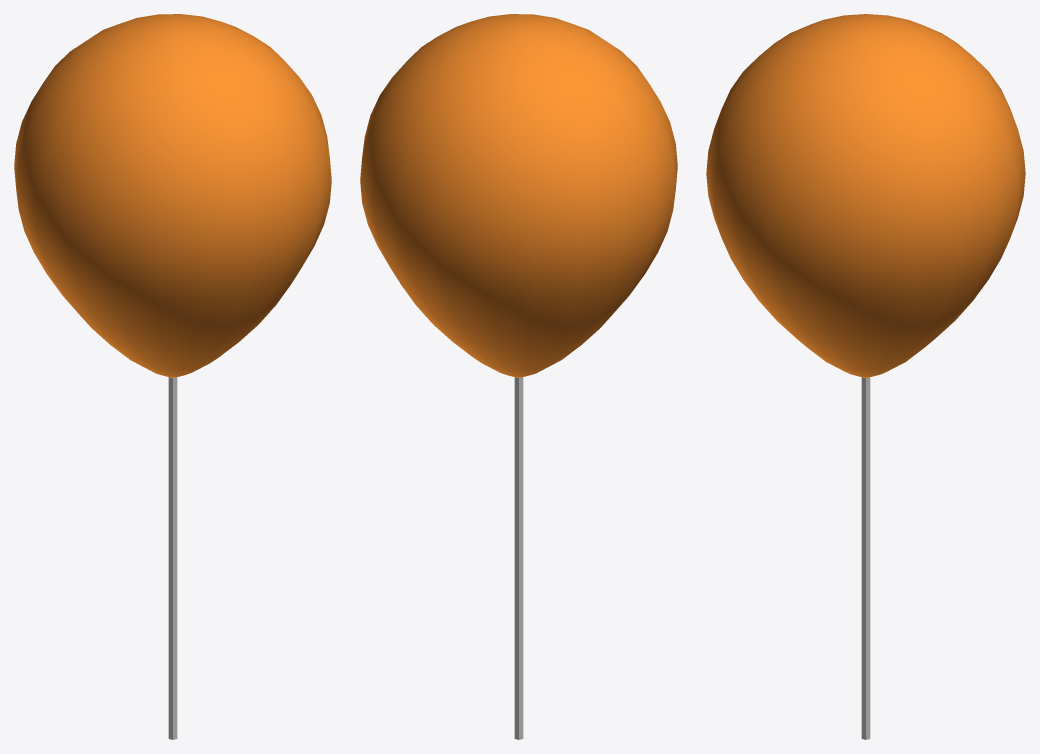
The model's file is BALLOON 4.fbx.
The picture shows the model from 3 angles, left to right: view 1: azimuth 30°, elevation 25°; view 2: azimuth 150°, elevation 25°; view 3: azimuth 270°, elevation 25°; orthographic projection.
Parts seen in each view (by area): view 1: pSphere4, pCylinder4; view 2: pSphere4, pCylinder4; view 3: pSphere4, pCylinder4.
Boxes of the visible parts, box(x1,y1,x2,y2) form: pSphere4: box(14, 14, 331, 377); pCylinder4: box(168, 377, 177, 739); pSphere4: box(360, 14, 677, 377); pCylinder4: box(514, 377, 523, 739); pSphere4: box(706, 14, 1025, 377); pCylinder4: box(861, 377, 870, 739).
Bounding box in the file's own units: 2 × 4.9 × 2.
2 materials, 1 textured.
